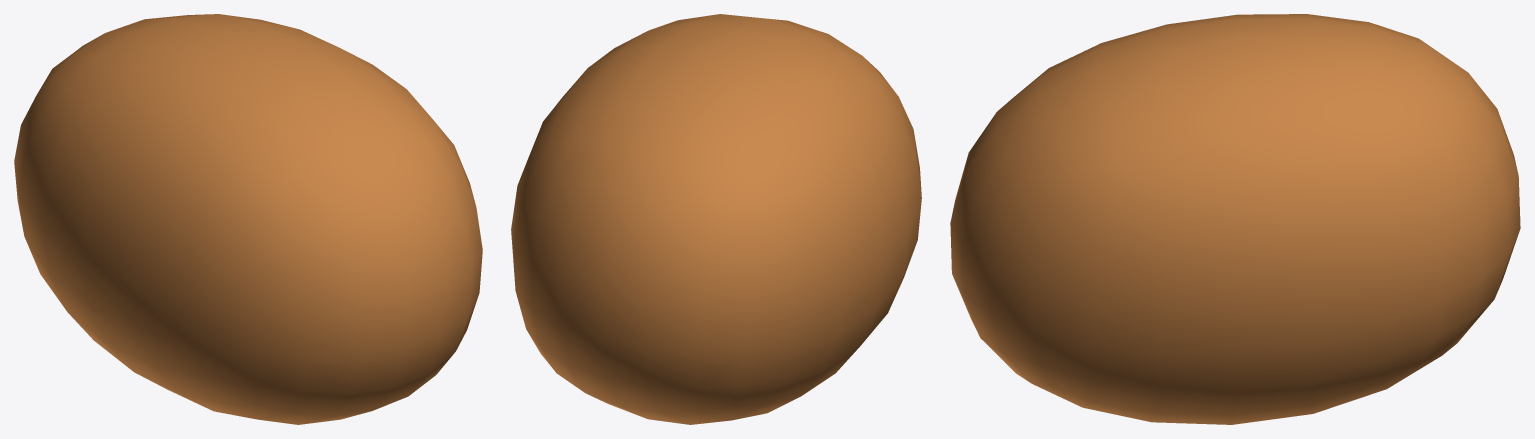
The model's file is Potato_01.dae.
The picture shows the model from 3 angles, left to right: view 1: azimuth 30°, elevation 25°; view 2: azimuth 150°, elevation 25°; view 3: azimuth 270°, elevation 25°; orthographic projection. The views are drawn at different scales.
Parts seen in each view (by area): view 1: Potato_01_LOD0; view 2: Potato_01_LOD0; view 3: Potato_01_LOD0.
Boxes of the visible parts, x1=… form: Potato_01_LOD0: x1=14, y1=14, x2=482, y2=424; Potato_01_LOD0: x1=511, y1=14, x2=921, y2=424; Potato_01_LOD0: x1=950, y1=14, x2=1520, y2=424.
Size of what is drawn, in the model's own units: 3.28 by 4.47 by 3.15.
